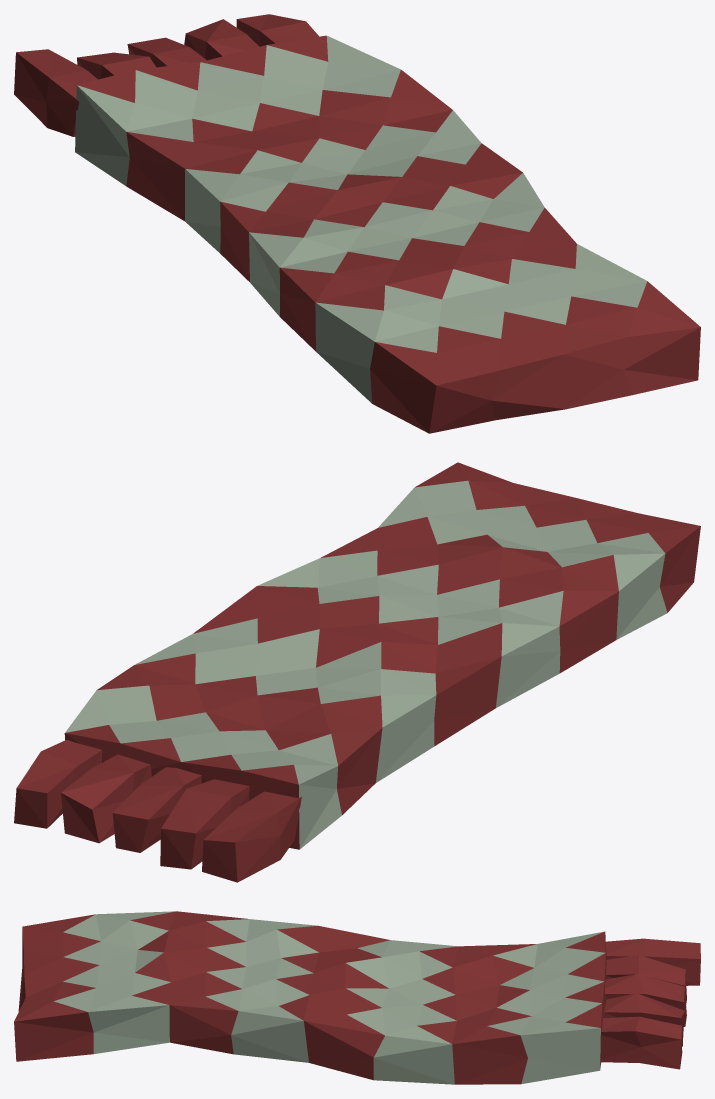
Rendered from item_scarf.fbx.
3 views of the same model, one above another, from view 1: azimuth 30°, elevation 25°; view 2: azimuth 150°, elevation 25°; view 3: azimuth 270°, elevation 25° (orthographic). The views are drawn at different scales.
Parts seen in each view (by area): view 1: item_scarf; view 2: item_scarf; view 3: item_scarf.
Boxes of the visible parts, box(x1,y1,x2,y2) form: item_scarf: box(14, 14, 700, 433); item_scarf: box(14, 462, 700, 882); item_scarf: box(14, 911, 700, 1084).
Size of the model in its own units: 18.37 by 4.96 by 45.39.
